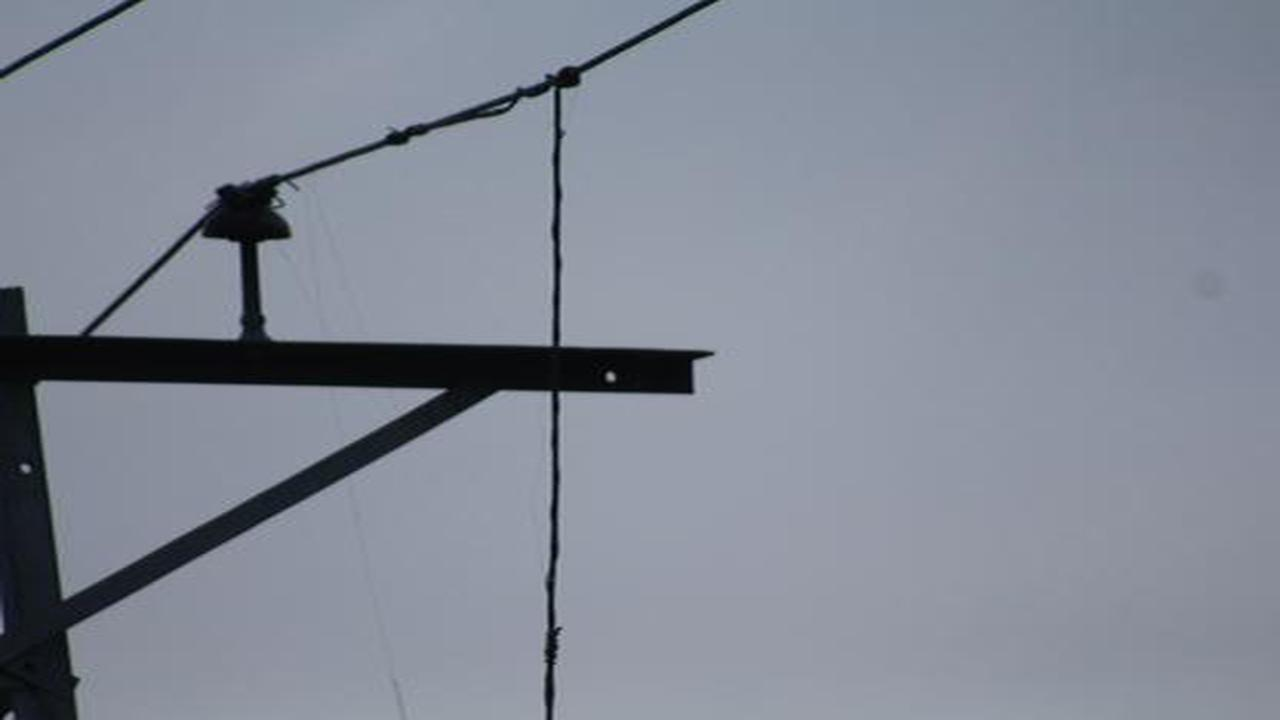insulator_pin: (201, 173, 299, 251)
